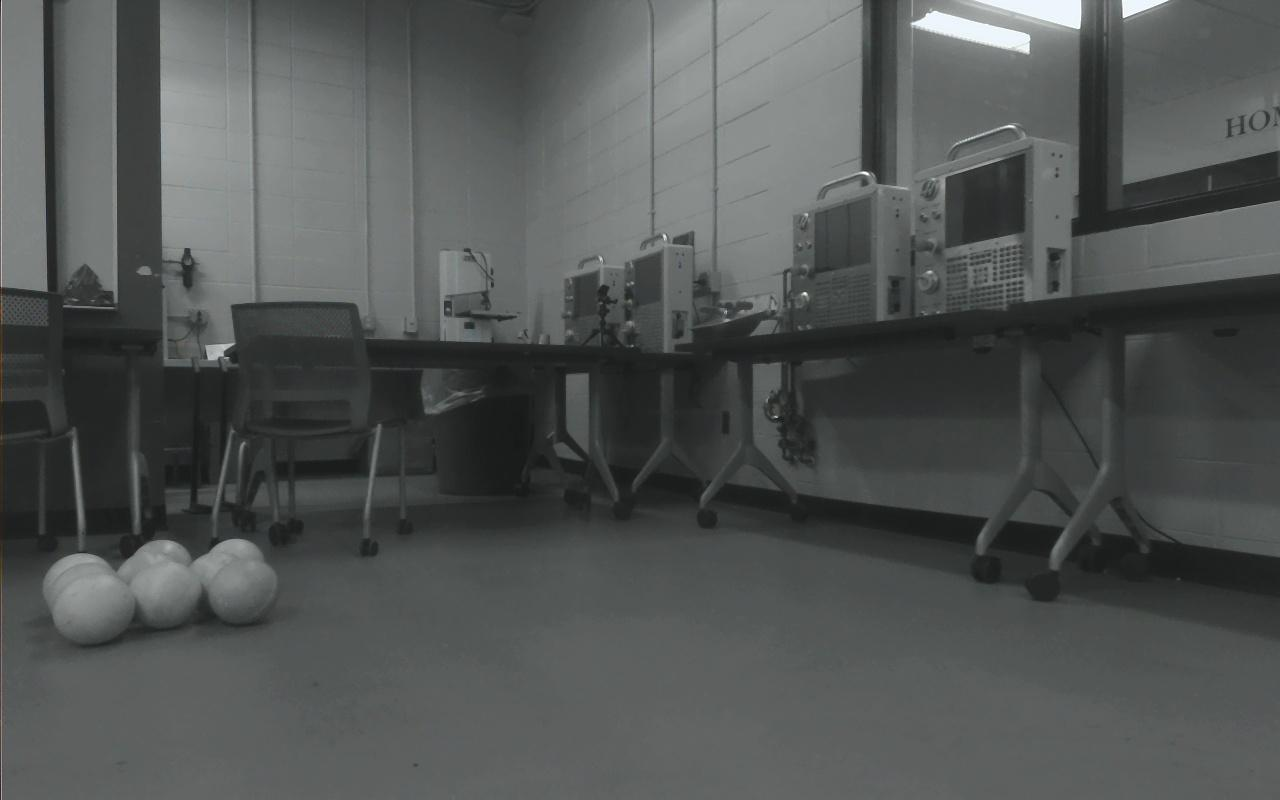Fuel: (52, 572, 136, 646), (131, 562, 204, 630), (206, 559, 280, 624), (46, 561, 120, 622), (41, 553, 114, 611), (189, 550, 250, 609), (118, 549, 182, 605), (132, 539, 192, 590), (207, 538, 265, 588)
